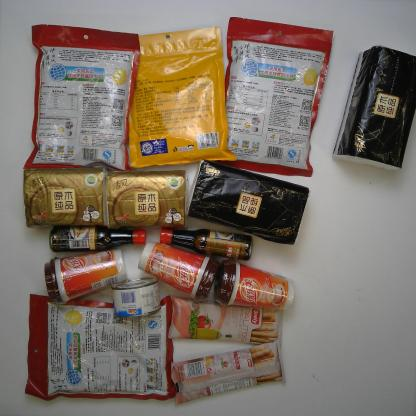Canned Food: (108, 274, 164, 320)
Dessert: (169, 340, 290, 409), (162, 294, 286, 344)
Dried Fruit: (127, 24, 241, 172)
Instant Drink: (219, 14, 336, 178), (20, 23, 141, 176), (23, 290, 178, 408), (136, 238, 222, 305), (41, 246, 129, 306), (211, 257, 298, 312)
Seasoner: (155, 227, 255, 262), (47, 224, 148, 256)
Tissue: (186, 158, 311, 248), (331, 45, 416, 171), (104, 167, 192, 231), (22, 167, 108, 231)
